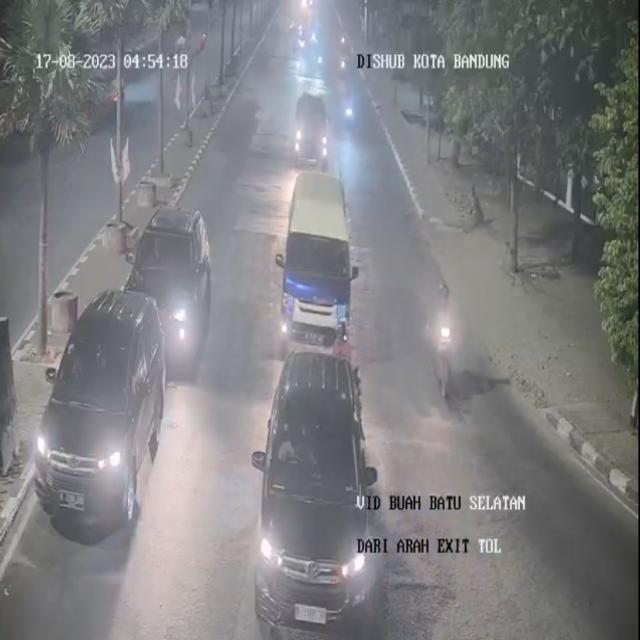cars: (249, 355, 370, 638), (28, 284, 162, 539), (282, 167, 356, 354), (136, 204, 212, 368), (296, 87, 336, 176)
motorcycle: (428, 276, 467, 401), (341, 83, 361, 133)
